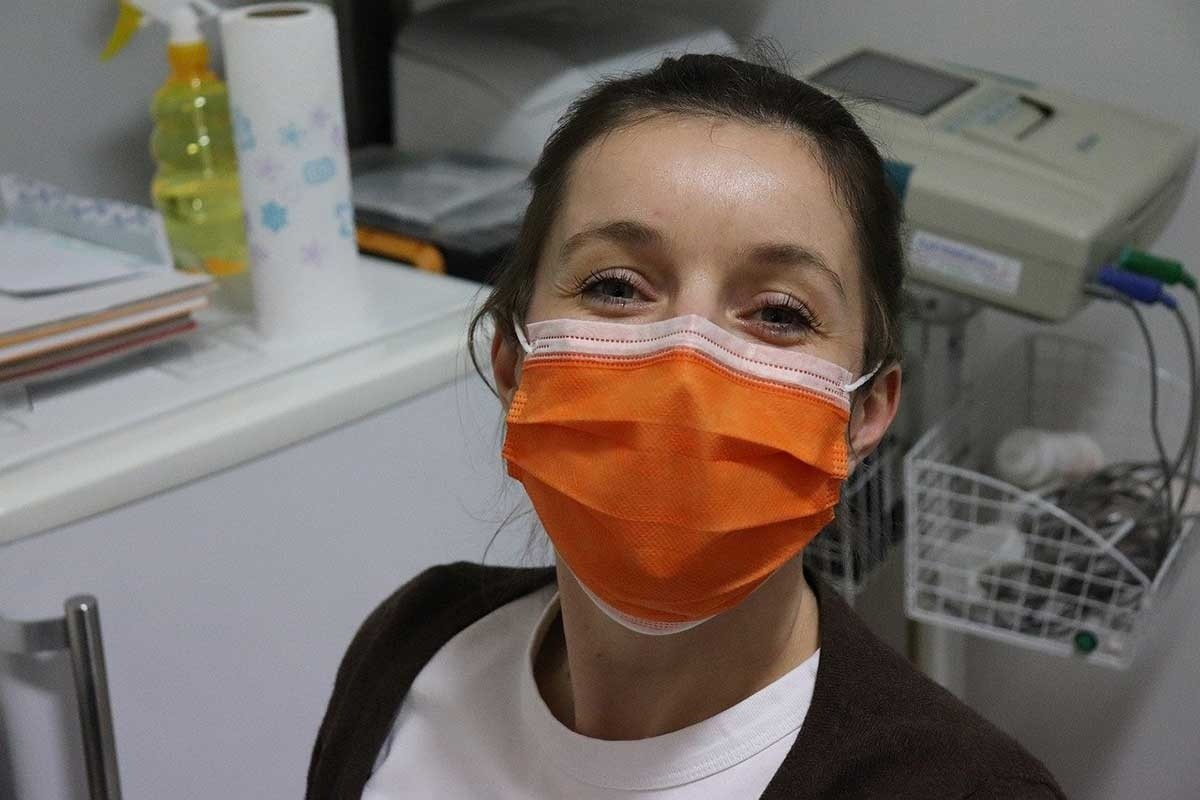face_with_mask: (487, 51, 909, 631)
